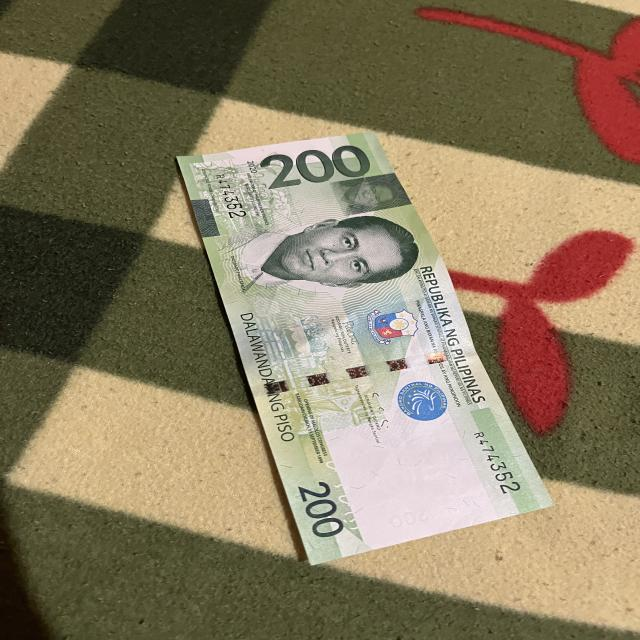concealed_value: (329, 173, 413, 217)
security_thread: (249, 344, 477, 397)
see_through_mark: (319, 454, 378, 536)
serial_number: (470, 428, 524, 497), (211, 171, 253, 223)
value: (254, 142, 378, 192)
value_watermark: (385, 507, 434, 530)
